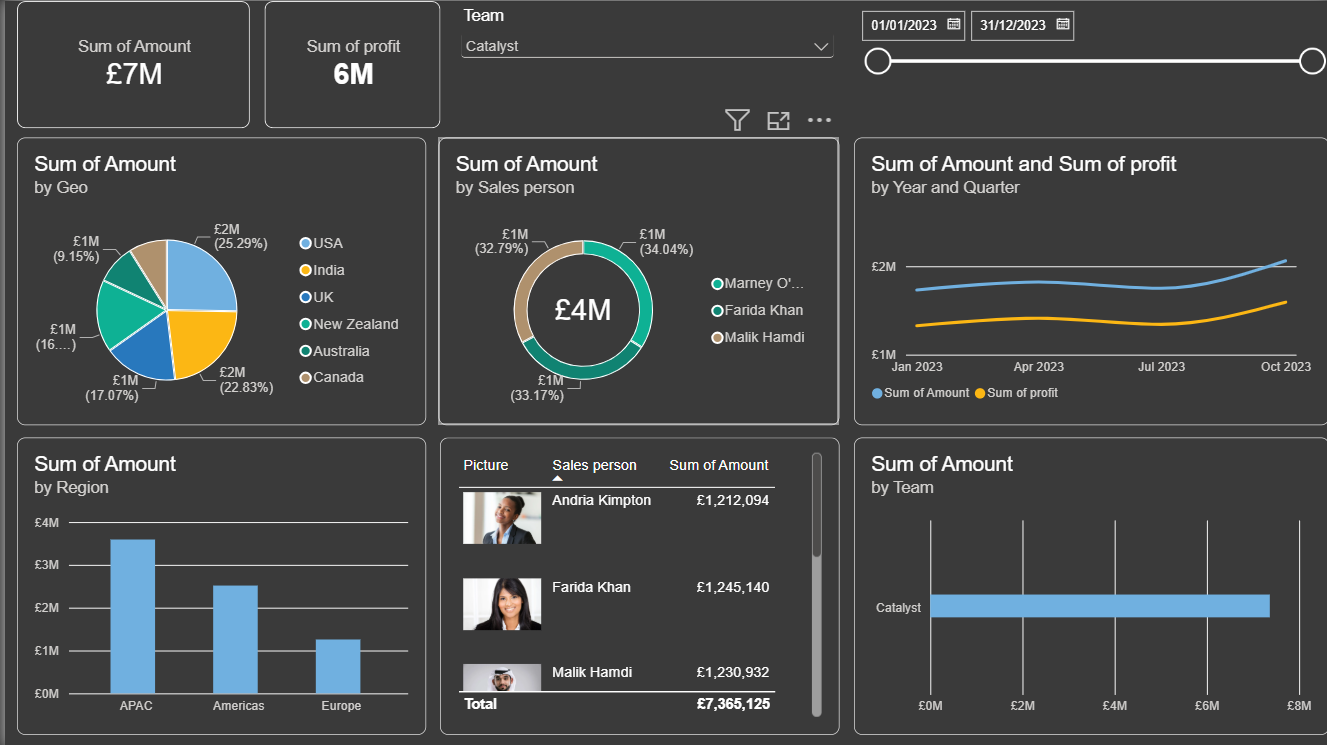

This screenshot's page, from the dashboard's own definition file:
{"tool":"powerbi","page":{"name":"Page 1","canvas":[1280,720],"ordinal":0},"visuals":[{"type":"columnChart","fields":{"Category":["Locations.Region"],"Y":["Sum(sales.Amount)"]},"box":[10.9,421.9,395.3,287.5],"z":0},{"type":"tableEx","fields":{"Values":["EmployeeData.Picture","EmployeeData.Sales person","Sum(sales.Amount)"]},"box":[420.3,421.9,385.9,287.5],"z":1000},{"type":"barChart","fields":{"Category":["EmployeeData.Team"],"Y":["Sum(sales.Amount)"]},"box":[820.3,421.9,459.4,287.5],"z":2000},{"type":"pieChart","fields":{"Category":["Locations.Geo"],"Y":["Sum(sales.Amount)"]},"box":[10.9,131.2,395.3,278.1],"z":3000},{"type":"donutChart","fields":{"Category":["EmployeeData.Sales person"],"Y":["Sum(sales.Amount)"]},"box":[418.8,131.2,387.5,278.1],"z":4000},{"type":"lineChart","fields":{"Category":["sales.Date.Variation.Date Hierarchy.Year","sales.Date.Variation.Date Hierarchy.Quarter","sales.Date.Variation.Date Hierarchy.Month","sales.Date.Variation.Date Hierarchy.Day"],"Y":["Sum(sales.Amount)","Sum(sales.profit)"]},"box":[820.3,131.2,459.4,278.1],"z":5000},{"type":"cardVisual","fields":{"Data":["Sum(sales.Amount)"]},"box":[10.9,0,225,123.4],"z":6000},{"type":"cardVisual","fields":{"Data":["Sum(sales.profit)"]},"box":[250,0,170.3,123.4],"z":7000},{"type":"slicer","fields":{"Values":["EmployeeData.Team"]},"box":[434.4,4.7,371.9,118.8],"z":8000},{"type":"slicer","fields":{"Values":["sales.Date"]},"box":[820,0,459.4,118.8],"z":9000}]}

Visuals, with their boxes in screenshot pixels (x1, y1, x2, y2), scaled from the page's 1280x720 canvas onto the 1327x745 screenshot:
columnChart - Locations.Region x Sum(sales.Amount): BBox(11, 437, 421, 734)
tableEx - EmployeeData.Picture x EmployeeData.Sales person: BBox(436, 437, 836, 734)
barChart - EmployeeData.Team x Sum(sales.Amount): BBox(850, 437, 1326, 734)
pieChart - Locations.Geo x Sum(sales.Amount): BBox(11, 136, 421, 424)
donutChart - EmployeeData.Sales person x Sum(sales.Amount): BBox(434, 136, 836, 424)
lineChart - sales.Date.Variation.Date Hierarchy.Year x sales.Date.Variation.Date Hierarchy.Quarter: BBox(850, 136, 1326, 424)
cardVisual - Sum(sales.Amount): BBox(11, 0, 245, 128)
cardVisual - Sum(sales.profit): BBox(259, 0, 436, 128)
slicer - EmployeeData.Team: BBox(450, 5, 836, 128)
slicer - sales.Date: BBox(850, 0, 1326, 123)
